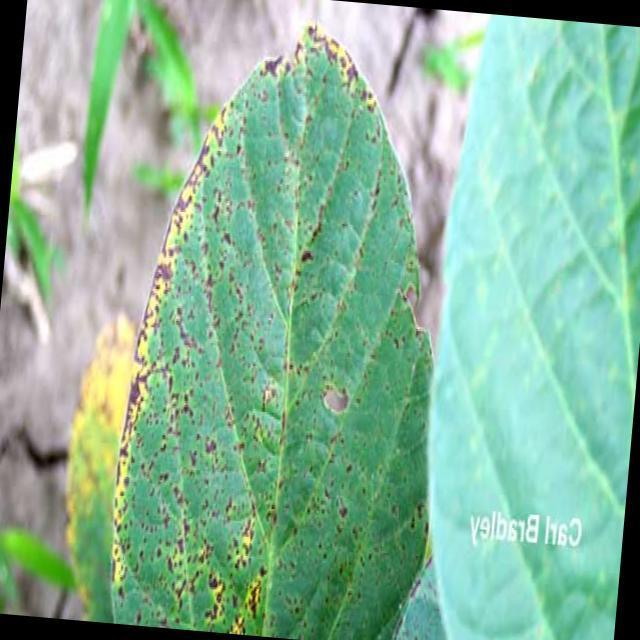Septoria: (106, 7, 461, 640)
